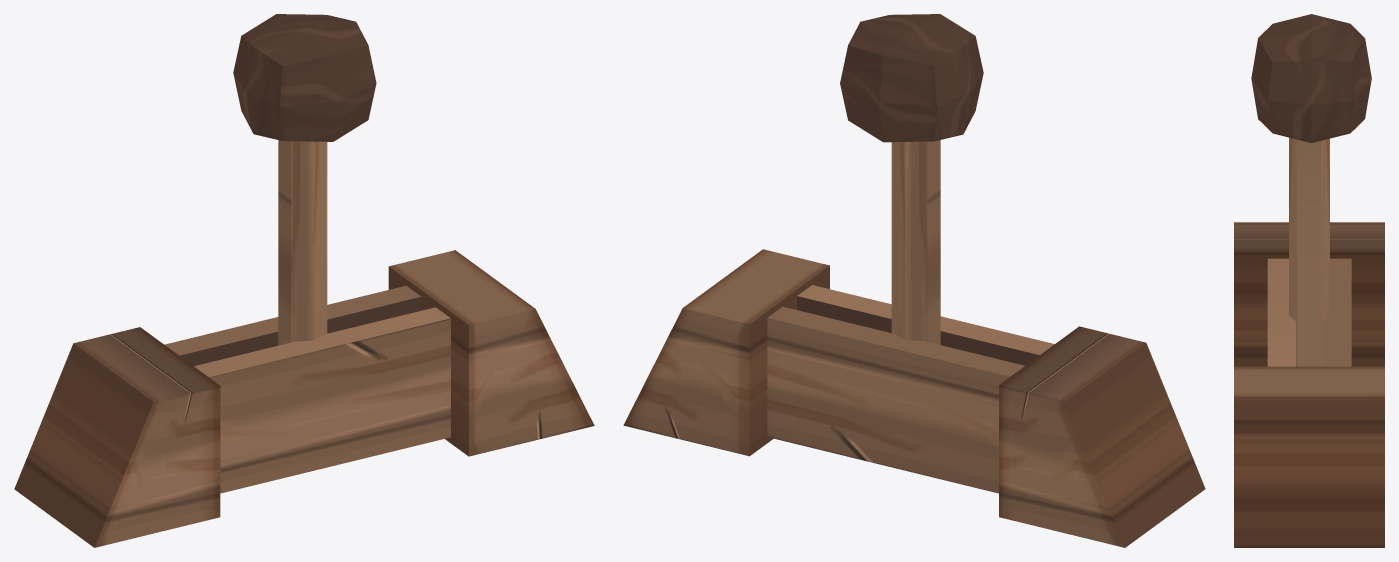
File: big_fence_lever.gltf
3 views of the same model, side by side, from view 1: azimuth 30°, elevation 25°; view 2: azimuth 150°, elevation 25°; view 3: azimuth 270°, elevation 25° (orthographic). The views are drawn at different scales.
Visible parts, largest first — view 1: BigFenceLeverBase, BigFenceLever; view 2: BigFenceLeverBase, BigFenceLever; view 3: BigFenceLeverBase, BigFenceLever.
Boxes of the visible parts, x1,y1,x2,y2 form: BigFenceLeverBase: (14,250,594,547); BigFenceLever: (233,14,376,345); BigFenceLeverBase: (623,249,1205,547); BigFenceLever: (840,14,983,344); BigFenceLeverBase: (1234,222,1384,547); BigFenceLever: (1251,14,1371,366).
Bounding box in the file's own units: 0.8607 × 0.7048 × 0.2391.
1 material, 1 textured.
